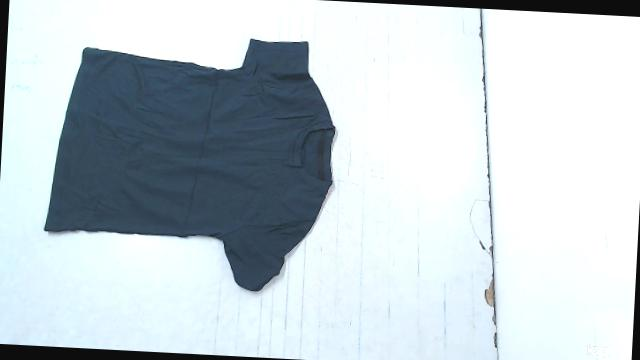new-garment: (44, 39, 334, 290)
